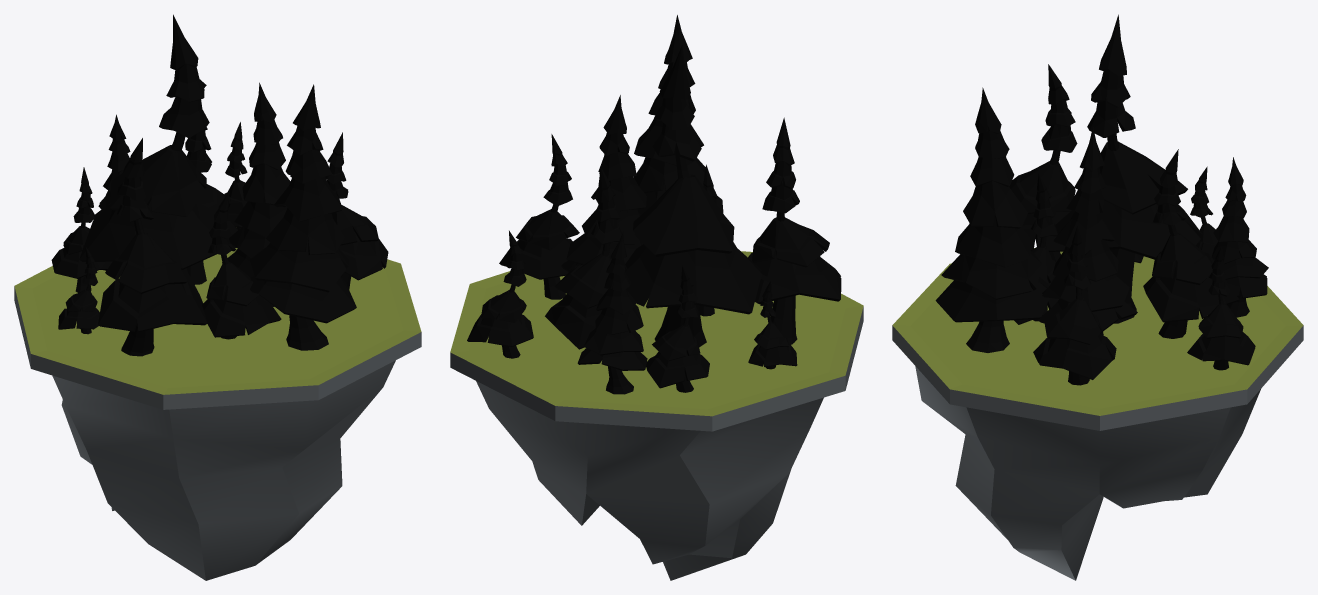
File: float_trees.fbx
The picture shows the model from 3 angles, left to right: view 1: azimuth 30°, elevation 25°; view 2: azimuth 150°, elevation 25°; view 3: azimuth 270°, elevation 25°; orthographic projection.
Parts seen in each view (by area): view 1: pasted__pasted__pCube15, group12, pasted__Mesh2, pasted__Mesh4, PineTree1Snowy1:Mesh, pasted__Mesh3; view 2: pasted__pasted__pCube15, group12, pasted__Mesh3, PineTree1Snowy1:Mesh, pasted__Mesh4, pasted__Mesh2; view 3: pasted__pasted__pCube15, group12, pasted__Mesh2, pasted__Mesh4, PineTree1Snowy1:Mesh, pasted__Mesh3.
Part boxes in pixels (bbox=[...]): pasted__pasted__pCube15: bbox=[14, 248, 421, 580]; group12: bbox=[51, 14, 388, 356]; pasted__Mesh2: bbox=[249, 84, 356, 350]; pasted__Mesh4: bbox=[222, 82, 290, 306]; PineTree1Snowy1:Mesh: bbox=[185, 127, 237, 284]; pasted__Mesh3: bbox=[93, 114, 130, 270]; pasted__pasted__pCube15: bbox=[450, 251, 863, 580]; group12: bbox=[467, 45, 841, 392]; pasted__Mesh3: bbox=[577, 232, 647, 394]; PineTree1Snowy1:Mesh: bbox=[545, 167, 643, 349]; pasted__Mesh4: bbox=[561, 95, 646, 272]; pasted__Mesh2: bbox=[634, 15, 723, 214]; pasted__pasted__pCube15: bbox=[892, 248, 1303, 580]; group12: bbox=[1009, 14, 1255, 385]; pasted__Mesh2: bbox=[935, 87, 1049, 352]; pasted__Mesh4: bbox=[1038, 127, 1137, 335]; PineTree1Snowy1:Mesh: bbox=[1143, 149, 1239, 338]; pasted__Mesh3: bbox=[1212, 157, 1268, 317].
Bounding box in the file's own units: 8.91 × 12.7 × 8.6.
Materials: 2 (1 with a texture image).
